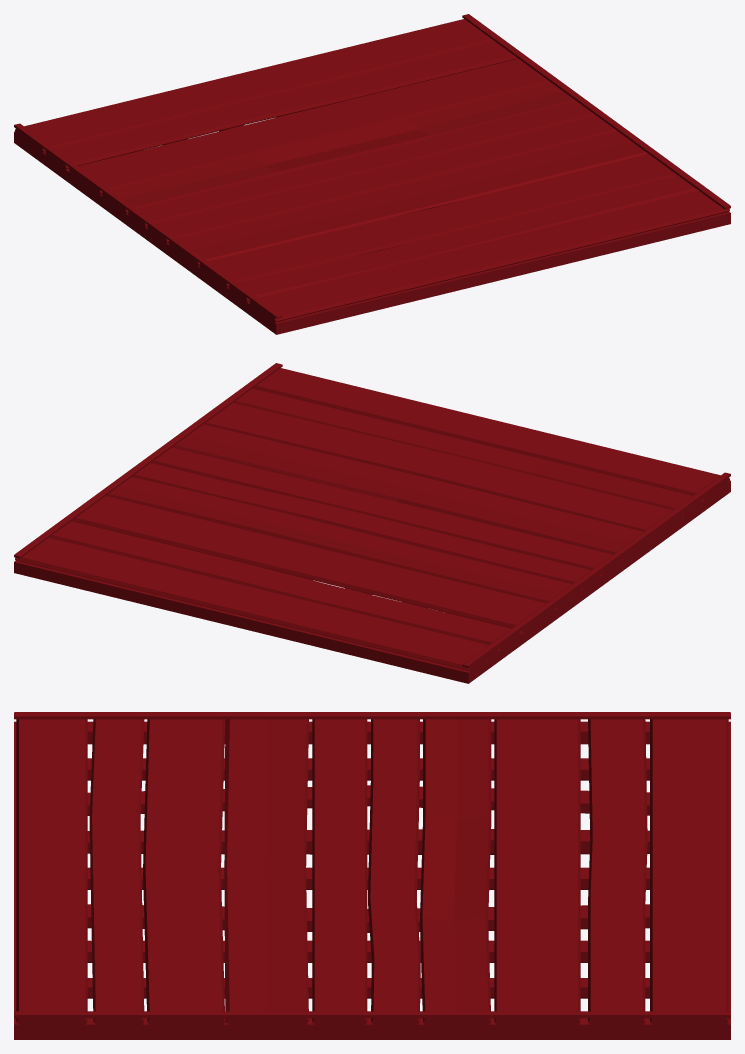
File: SM_MH_01_Wood_Floor_01.fbx
The picture shows the model from 3 angles, top to bottom: view 1: azimuth 30°, elevation 25°; view 2: azimuth 150°, elevation 25°; view 3: azimuth 270°, elevation 25°; orthographic projection. The views are drawn at different scales.
Parts seen in each view (by area): view 1: SM_MH_01_Wood_Floor_01_LOD0; view 2: SM_MH_01_Wood_Floor_01_LOD0; view 3: SM_MH_01_Wood_Floor_01_LOD0.
Part boxes in pixels (x1,y1,x2,y2): SM_MH_01_Wood_Floor_01_LOD0: (14, 14, 730, 334); SM_MH_01_Wood_Floor_01_LOD0: (14, 363, 730, 683); SM_MH_01_Wood_Floor_01_LOD0: (14, 712, 730, 1039).
Size of what is drawn, in the model's own units: 300 by 11.8 by 300.
